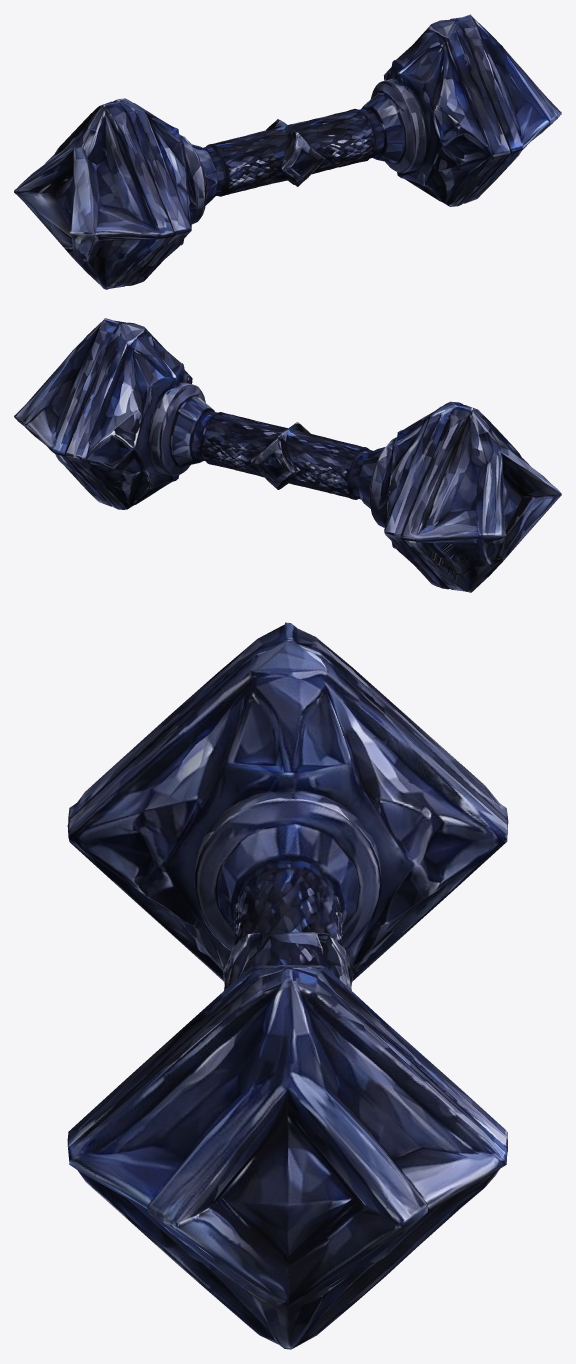
File: MAHWORLD_GYM_DUMBBELL_L1.glb
3 views of the same model, one above another, from view 1: azimuth 30°, elevation 25°; view 2: azimuth 150°, elevation 25°; view 3: azimuth 270°, elevation 25° (orthographic). The views are drawn at different scales.
Parts seen in each view (by area): view 1: tripo_node_49fbbe13-e287-4f78-a53a-bd5c49d3d895; view 2: tripo_node_49fbbe13-e287-4f78-a53a-bd5c49d3d895; view 3: tripo_node_49fbbe13-e287-4f78-a53a-bd5c49d3d895.
Part boxes in pixels (bbox=[...]): tripo_node_49fbbe13-e287-4f78-a53a-bd5c49d3d895: bbox=[14, 14, 561, 289]; tripo_node_49fbbe13-e287-4f78-a53a-bd5c49d3d895: bbox=[14, 318, 561, 592]; tripo_node_49fbbe13-e287-4f78-a53a-bd5c49d3d895: bbox=[67, 622, 508, 1349].
Bounding box in the file's own units: 0.9828 × 0.3537 × 0.381.
Materials: 1 (1 with a texture image).
